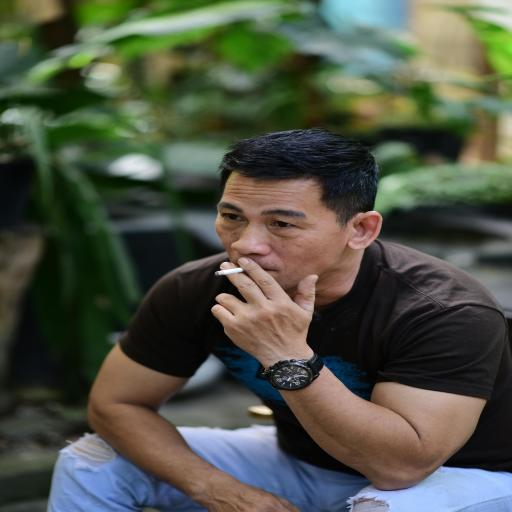merokok: (185, 221, 308, 329)
